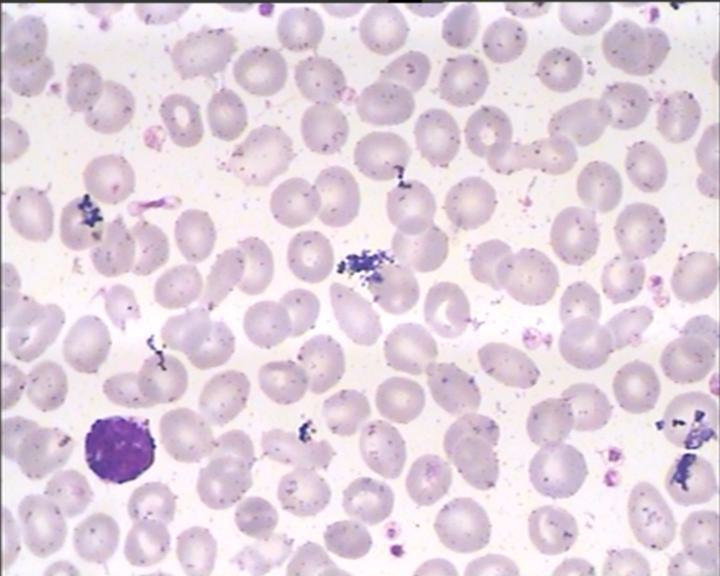baso: (79, 411, 160, 488)
